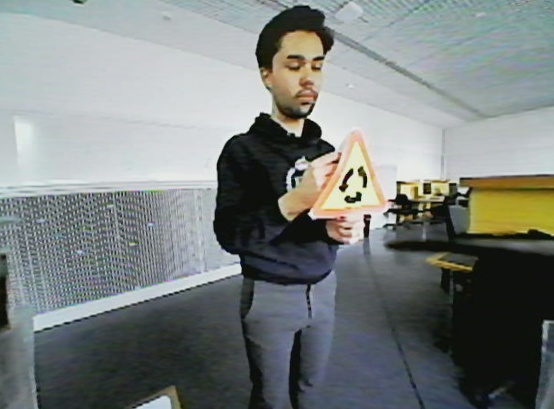roundabout_warning: (303, 124, 395, 225)
